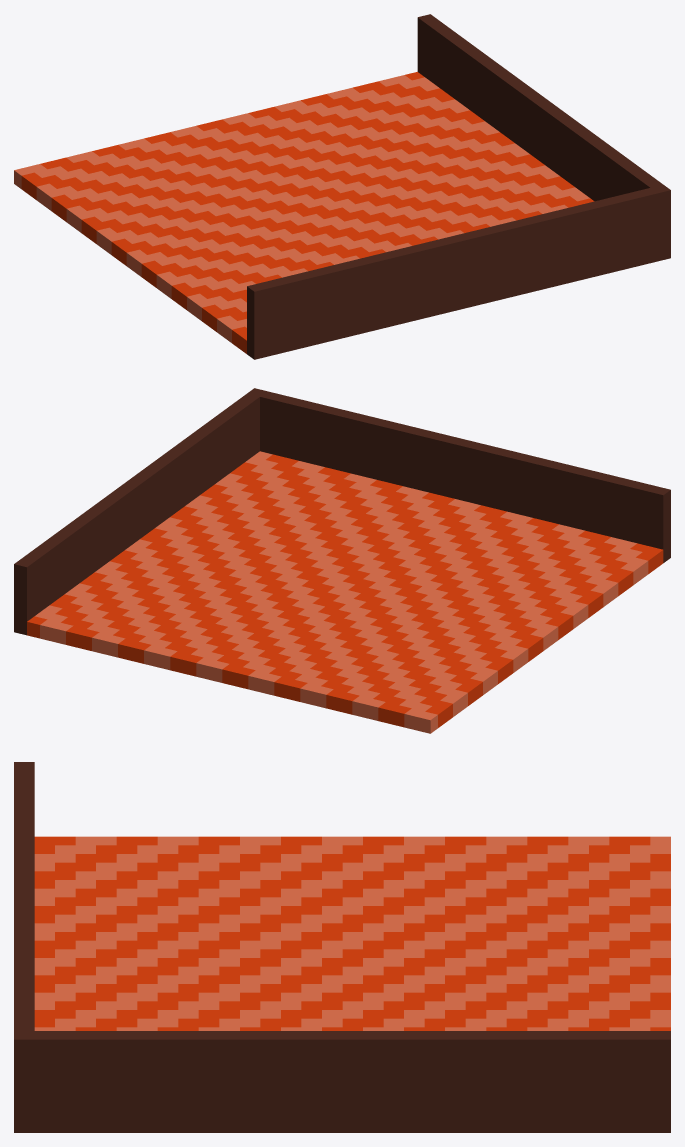
File: Blocker Bone Map 1-11.obj
The picture shows the model from 3 angles, top to bottom: view 1: azimuth 30°, elevation 25°; view 2: azimuth 150°, elevation 25°; view 3: azimuth 270°, elevation 25°; orthographic projection. The views are drawn at different scales.
Size of the model in its own units: 3.2 by 0.5 by 3.2.
Materials: 1 (1 with a texture image).
